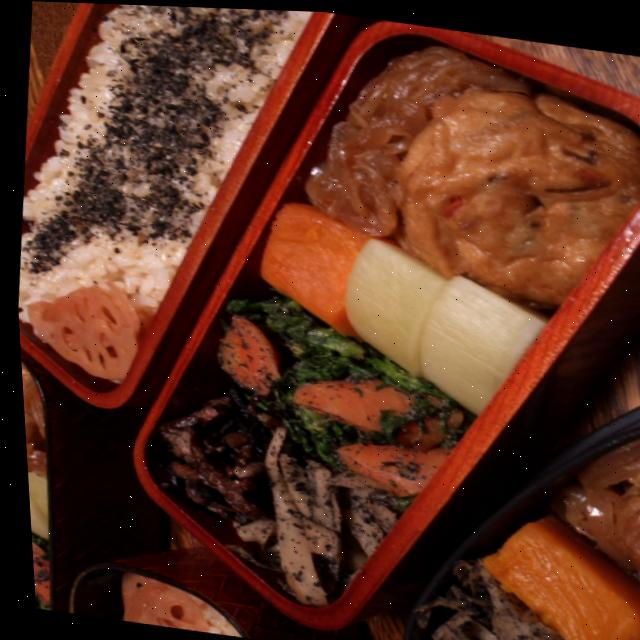熟制海鲜: (376, 32, 640, 331)
